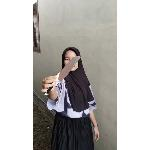Pisau: (44, 56, 84, 96)
